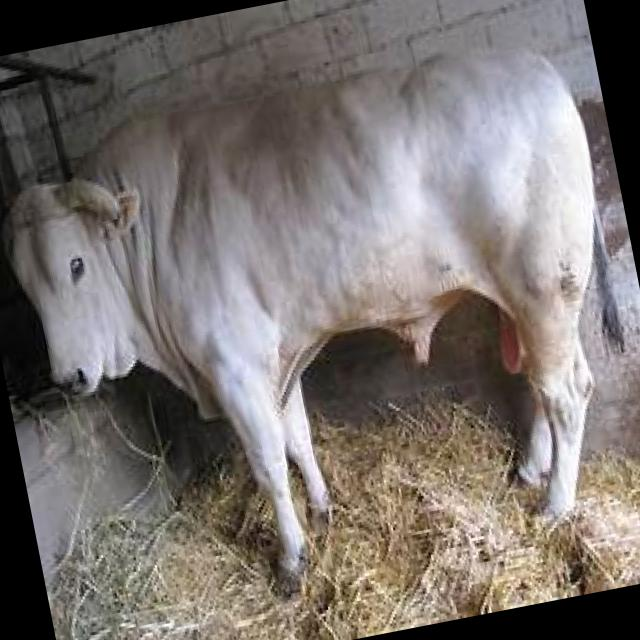animal: (0, 21, 640, 638)
